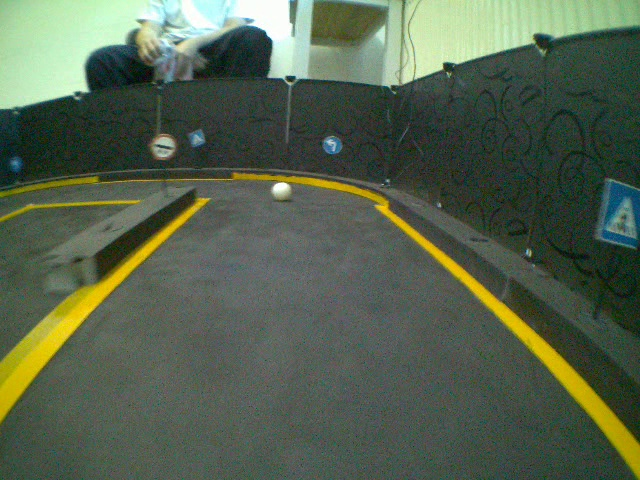ball: (272, 181, 290, 199)
